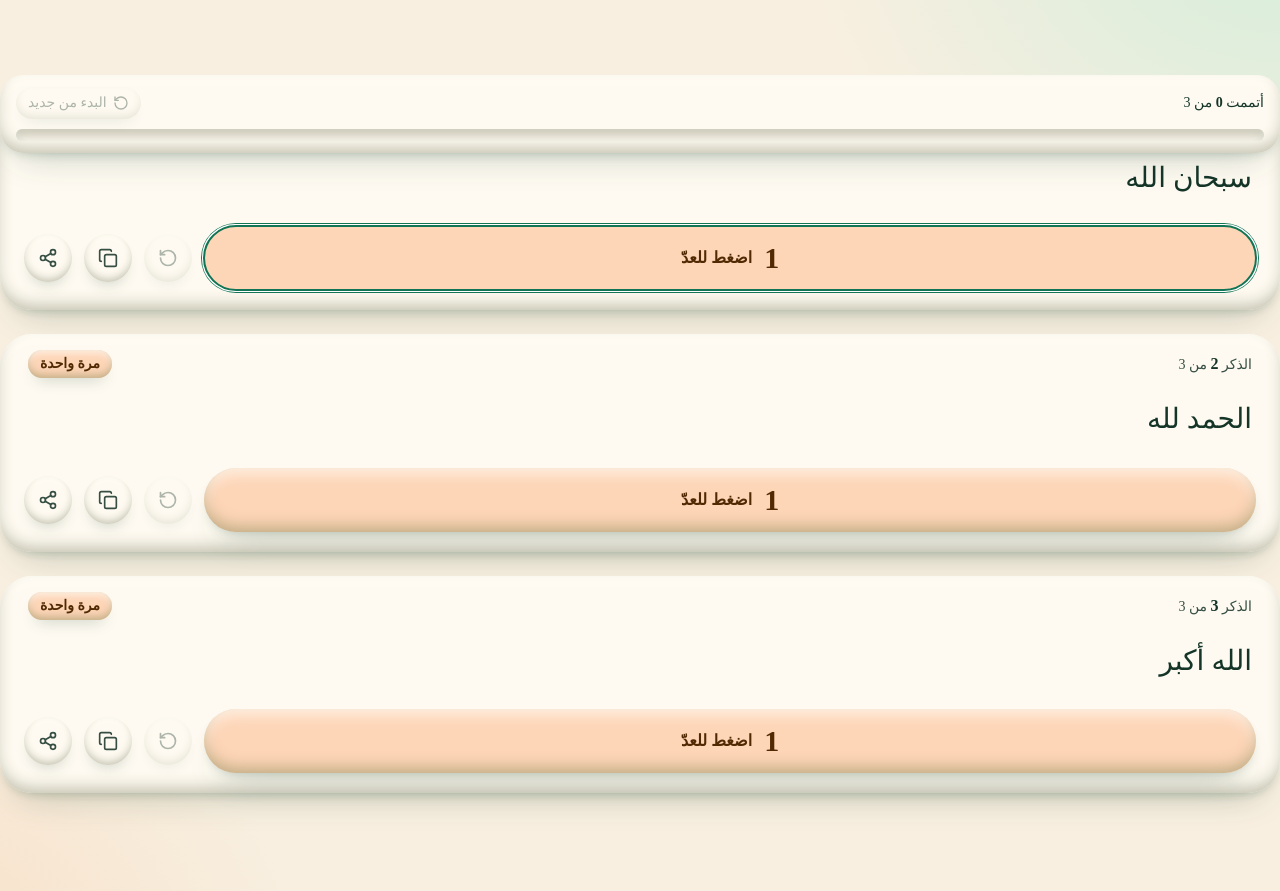
Scenario: ZekrList reading progress › tracks progress and congratulates with a link to the next situation when all are done
The width and height of the screenshot is (1280, 891).
Click the button "1 اضغط للعدّ" below "سبحان الله" at (730, 258), box [204,226,1256,290]
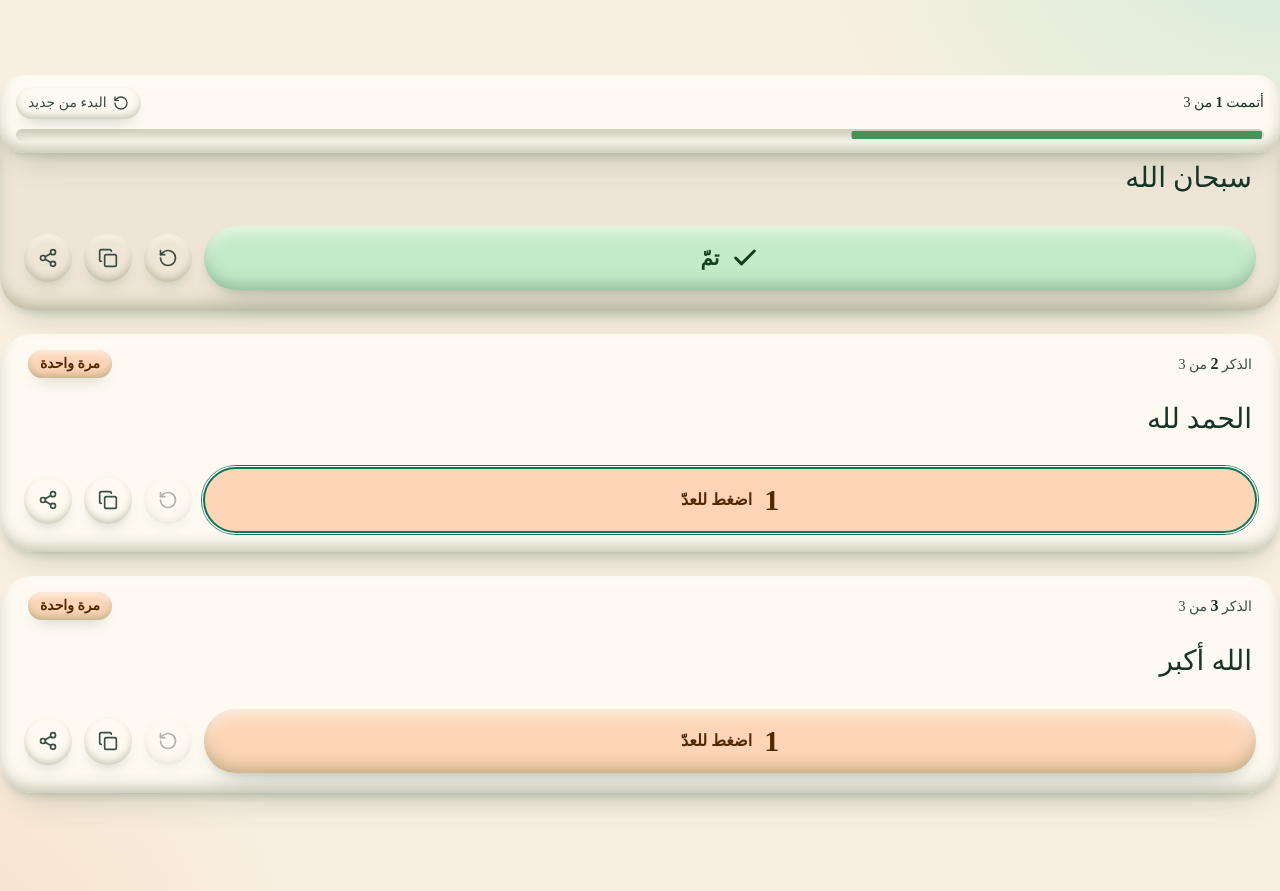
Expected: the element showing "أتممت 1 من 3" is shown, [1184,93,1264,113]
Click the button "1 اضغط للعدّ" below "الحمد لله" at (730, 500), box [204,468,1256,532]
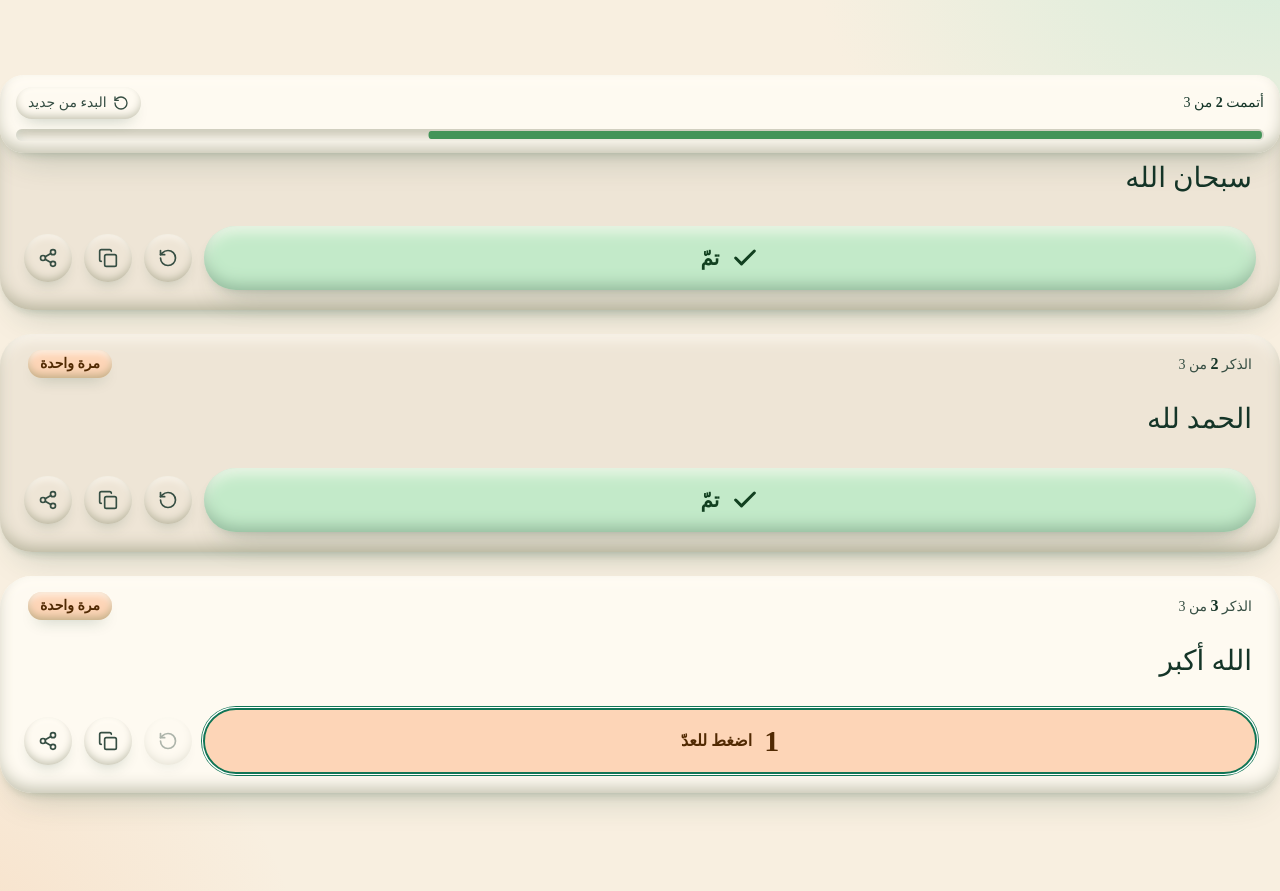
Click the button "1 اضغط للعدّ" at (730, 741), box [204,709,1256,773]
(page scrolled)
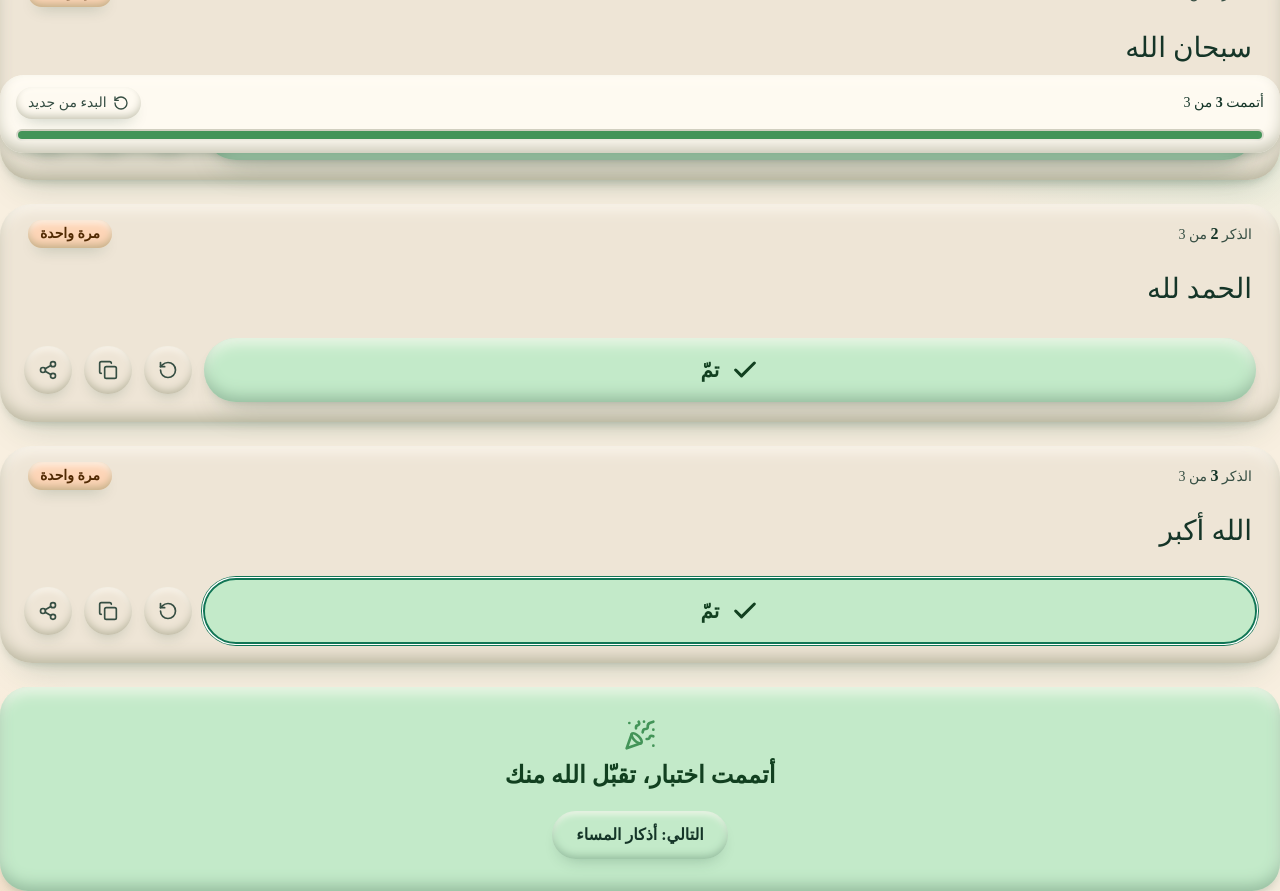
Expected: the element showing "أتممت 3 من 3" is shown, [1184,93,1264,113]
Expected: the text "أتممت اختبار، تقبّل الله منك" is shown, [505,762,775,788]
Expected: the link "التالي: أذكار المساء" is shown, [552,811,728,859]
